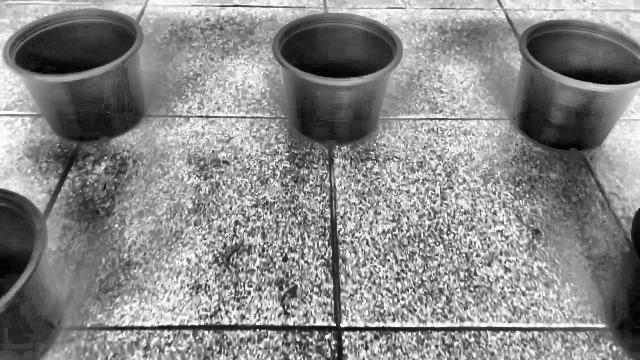pot: (0, 9, 146, 143), (510, 20, 640, 151), (272, 14, 403, 144)
